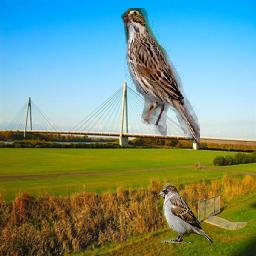Sparrow: (122, 9, 201, 144), (159, 183, 214, 243)
